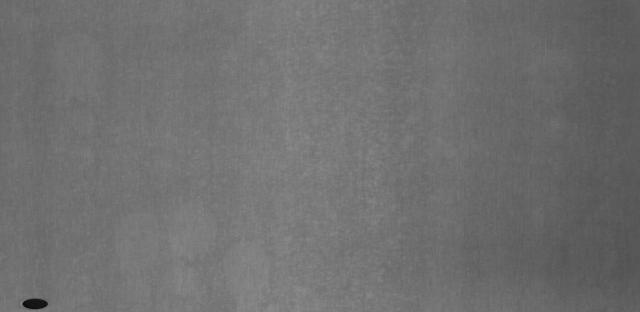punching_hole: (18, 297, 49, 312)
